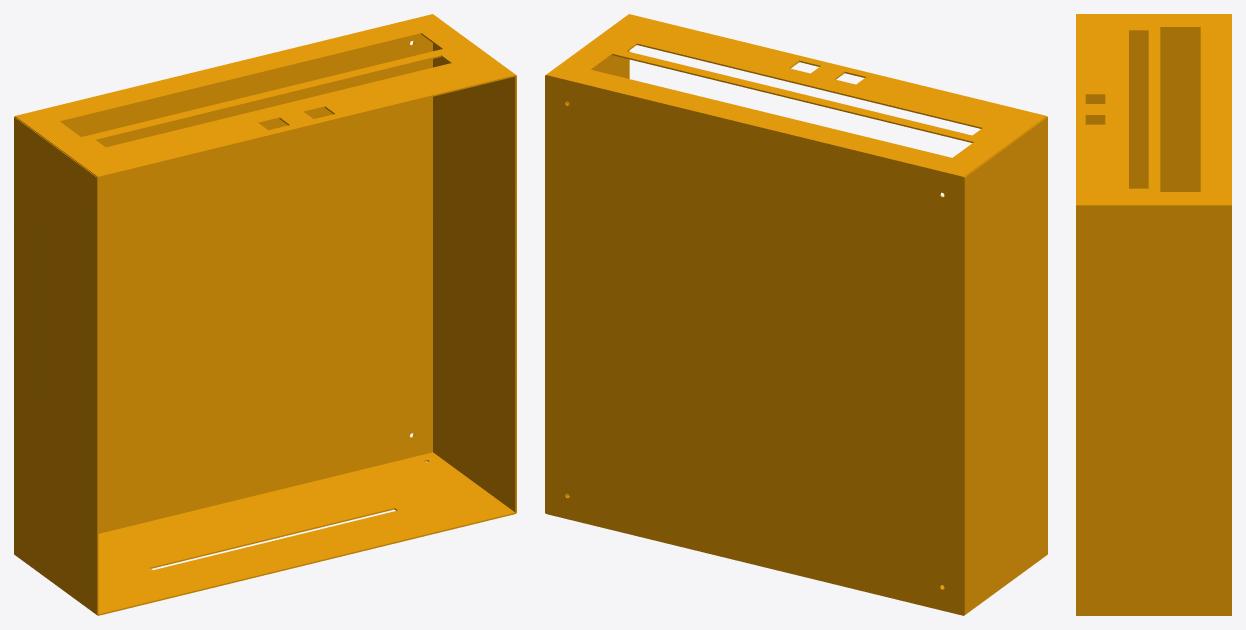
Rendered from shell_wall_wrap.glb.
3 views of the same model, side by side, from view 1: azimuth 30°, elevation 25°; view 2: azimuth 150°, elevation 25°; view 3: azimuth 270°, elevation 25° (orthographic). The views are drawn at different scales.
Visible parts, largest first — view 1: front_panel-union-union-union-union-diff-diff-diff-diff-diff; view 2: front_panel-union-union-union-union-diff-diff-diff-diff-diff; view 3: front_panel-union-union-union-union-diff-diff-diff-diff-diff.
Part boxes in pixels (x1,y1,x2,y2): front_panel-union-union-union-union-diff-diff-diff-diff-diff: (14, 14, 516, 615); front_panel-union-union-union-union-diff-diff-diff-diff-diff: (545, 14, 1047, 615); front_panel-union-union-union-union-diff-diff-diff-diff-diff: (1076, 14, 1231, 615).
Size of the model in its own units: 582 by 582 by 200.
